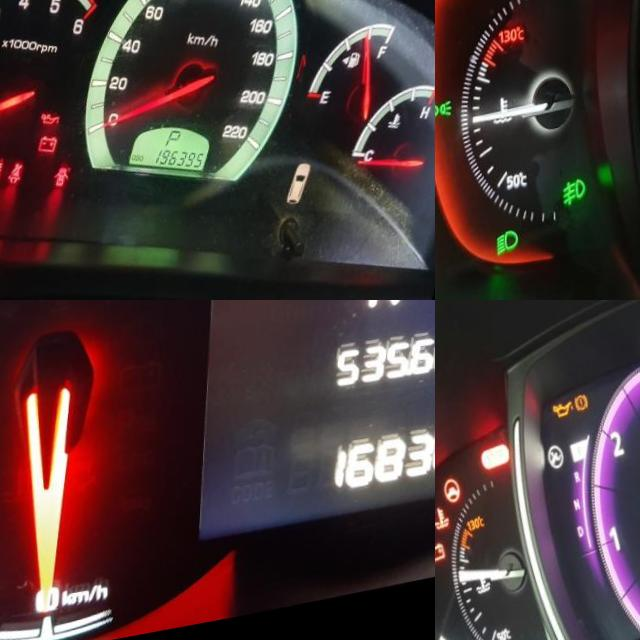Doors: (51, 171, 71, 197)
Engine cooling system: (435, 505, 450, 536)
FrontFogLight: (560, 190, 587, 223)
Low beam: (494, 237, 520, 267)
SideLamp: (435, 105, 451, 128)
